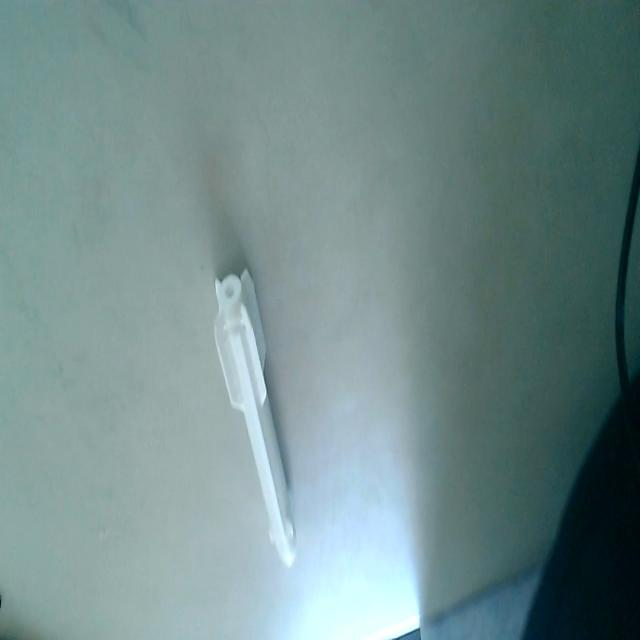Rocket: (212, 261, 302, 569)
